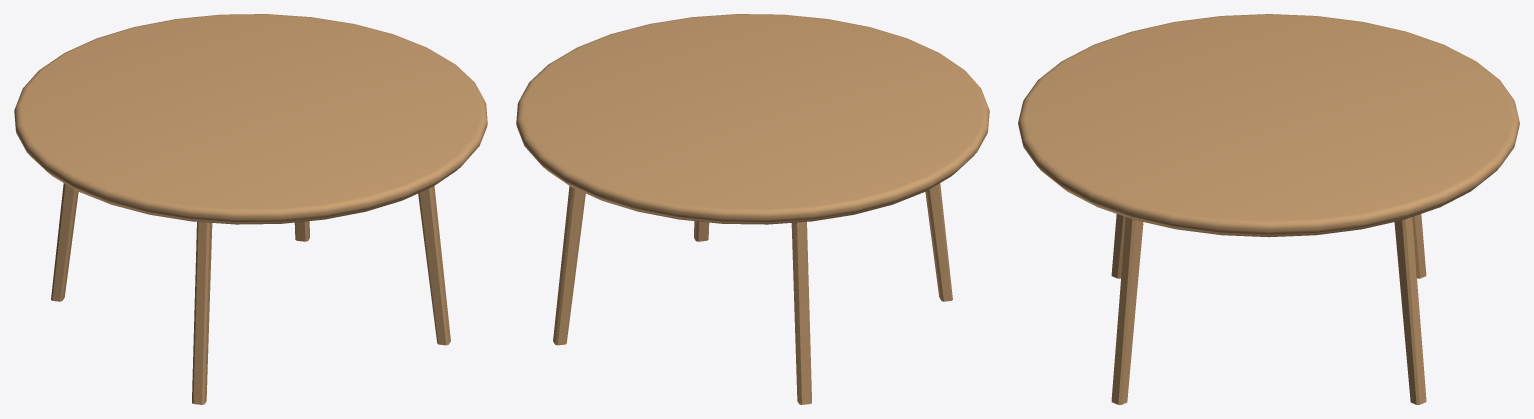
Rendered from table.glb.
The picture shows the model from 3 angles, left to right: view 1: azimuth 30°, elevation 25°; view 2: azimuth 150°, elevation 25°; view 3: azimuth 270°, elevation 25°; orthographic projection. The views are drawn at different scales.
Parts seen in each view (by area): view 1: table.001; view 2: table.001; view 3: table.001.
Part boxes in pixels (x1,y1,x2,y2): table.001: [14, 14, 487, 404]; table.001: [516, 14, 989, 404]; table.001: [1018, 14, 1519, 404].
Bounding box in the file's own units: 0.9594 × 0.4651 × 0.9594.
Materials: 1 (1 with a texture image).
